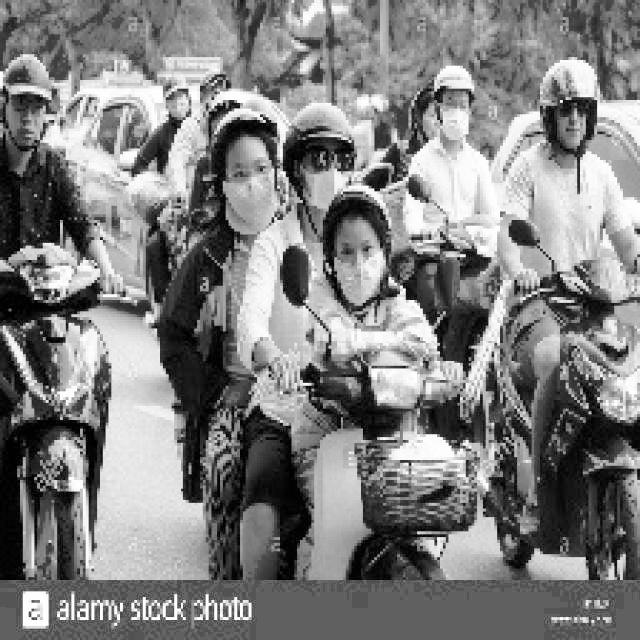Bike: (491, 272, 639, 596), (285, 329, 472, 583), (12, 245, 125, 579)
